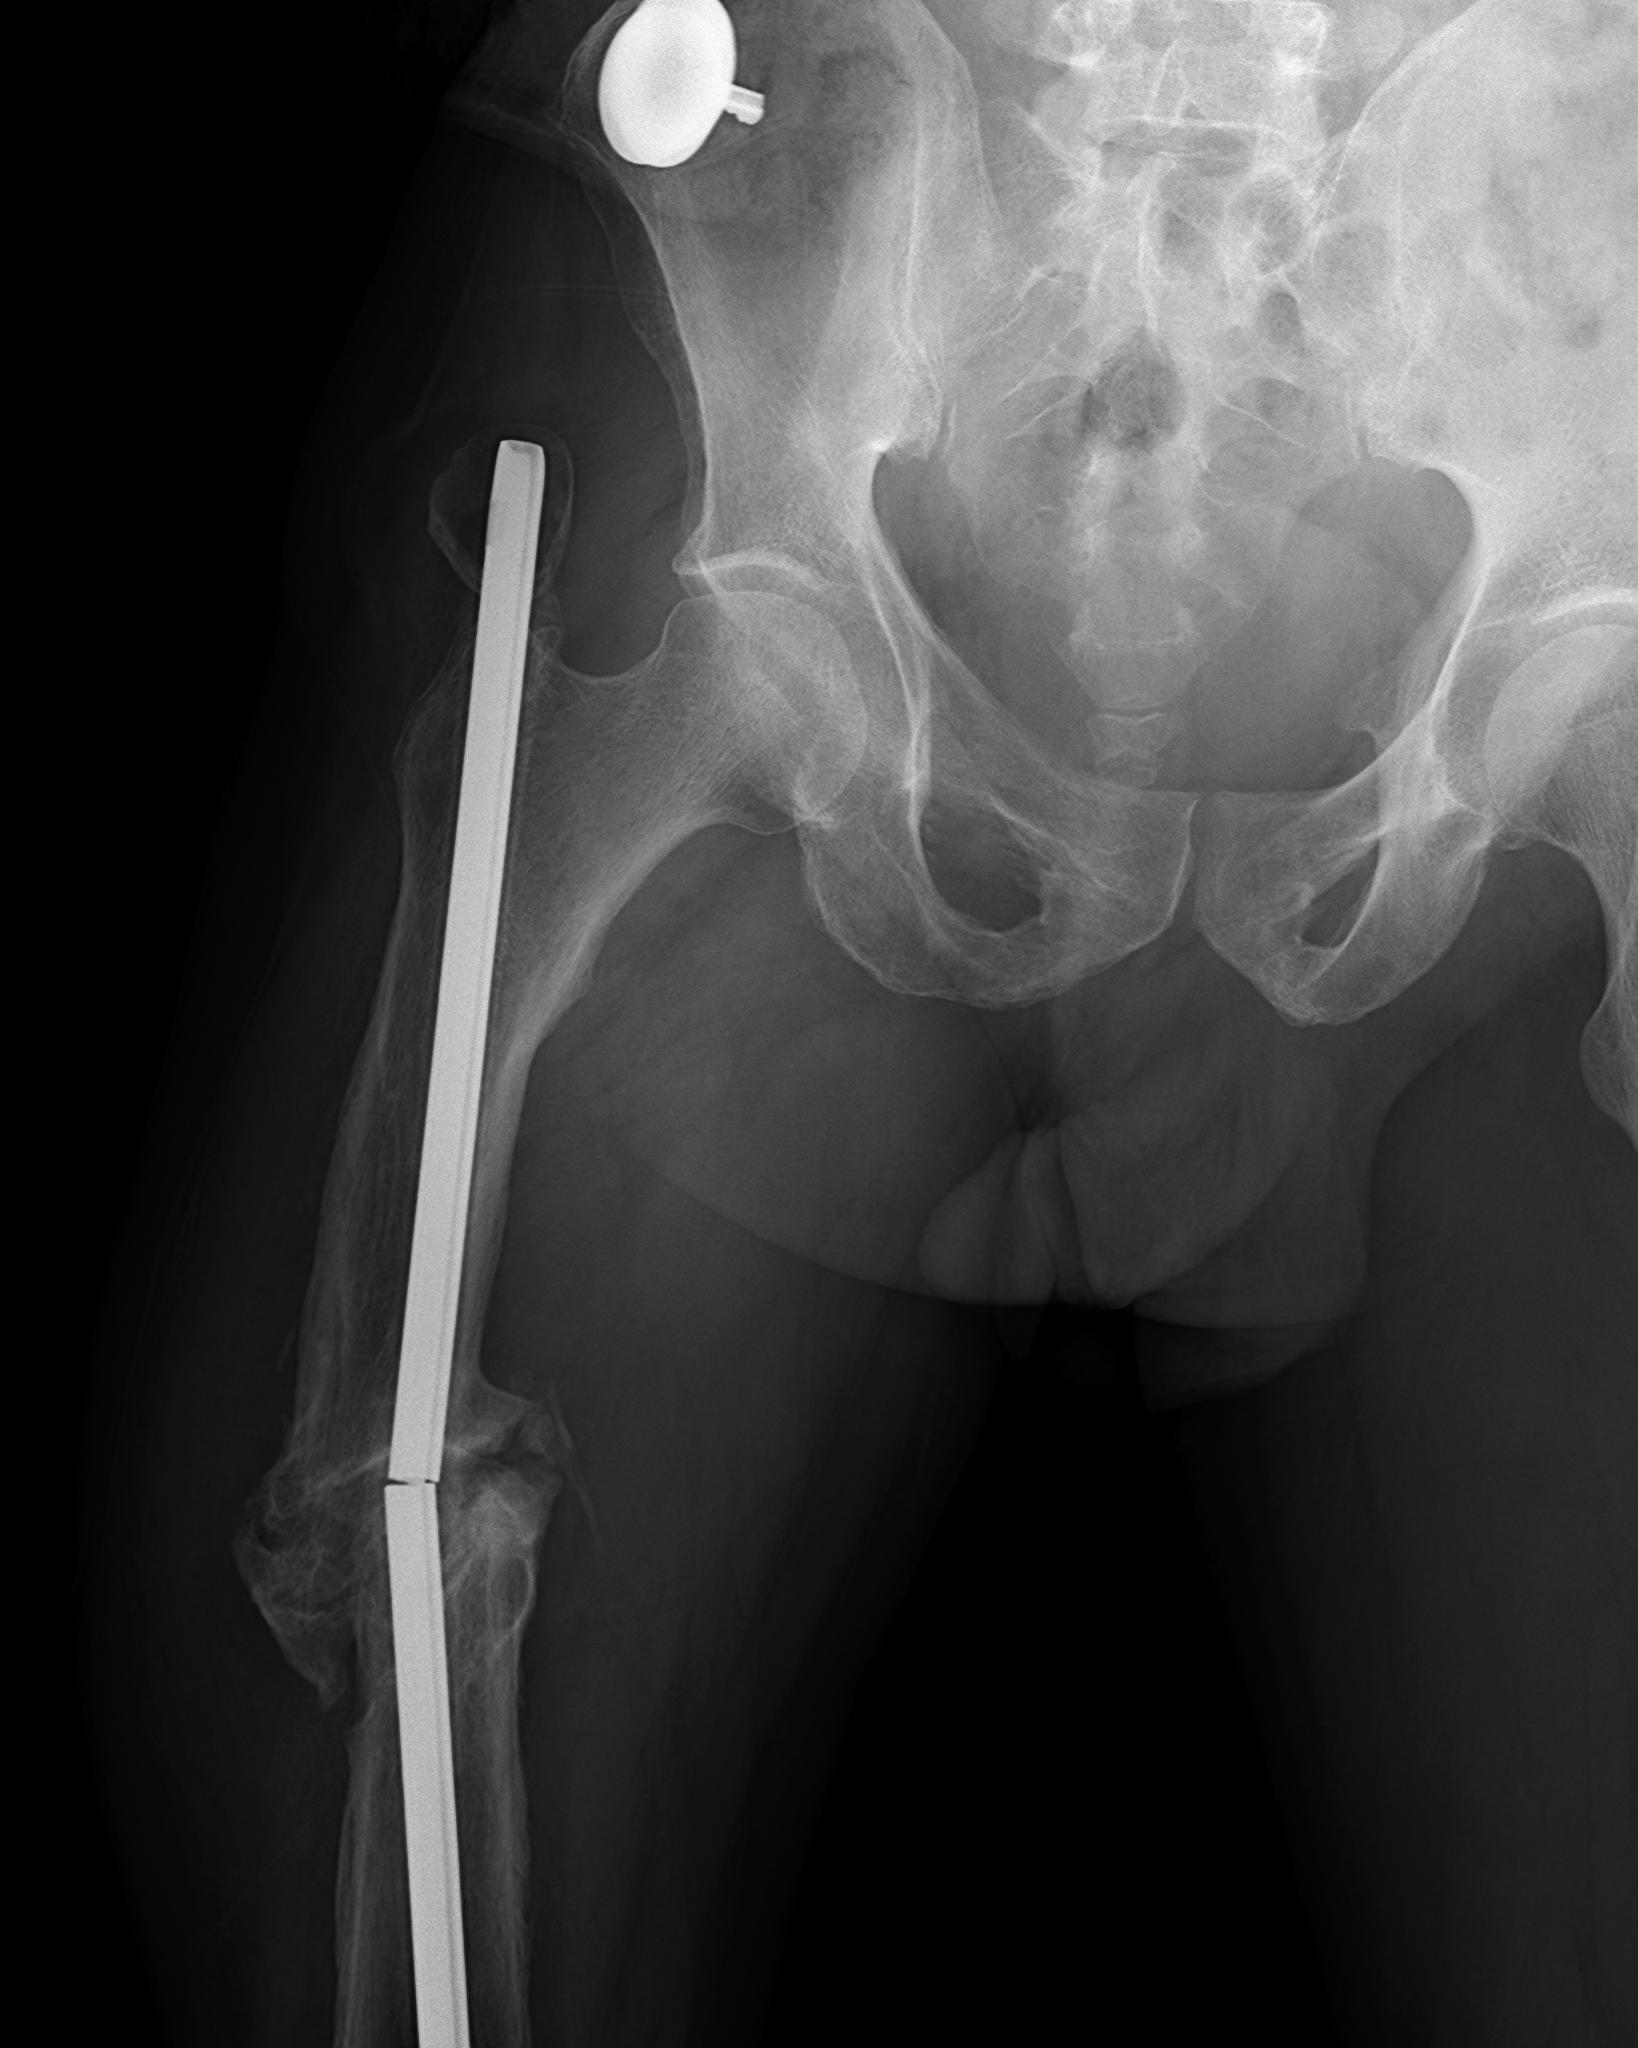fractured: (226, 1353, 608, 1757)
